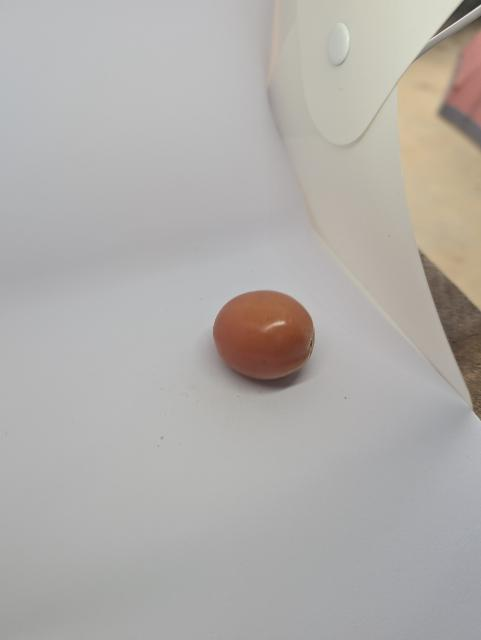turning: (199, 283, 323, 380)
